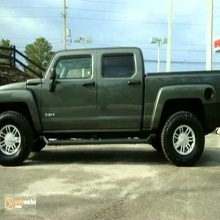no damage: (1, 47, 219, 164)
